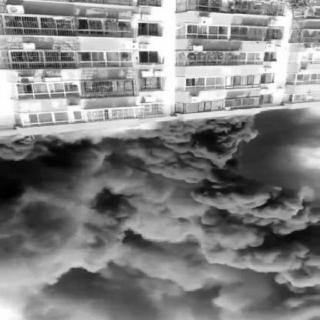Fire: (209, 114, 250, 132), (21, 134, 51, 144)
Smoke: (0, 114, 319, 320)
